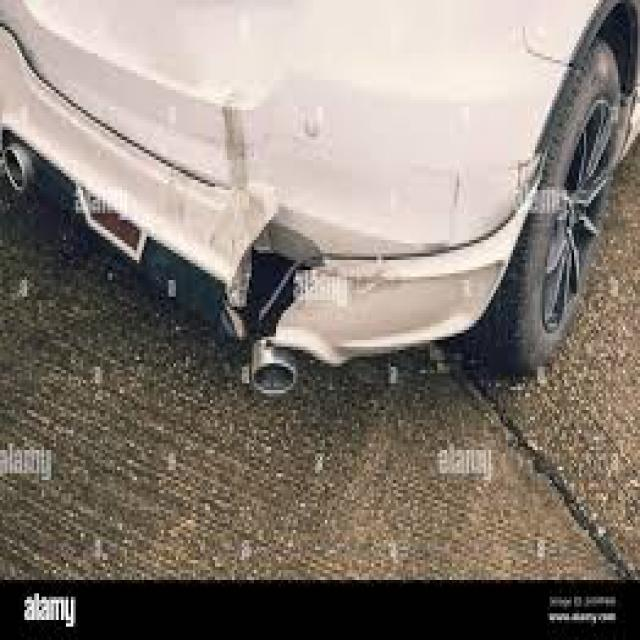damaged-rear-bumper: (0, 48, 474, 351)
